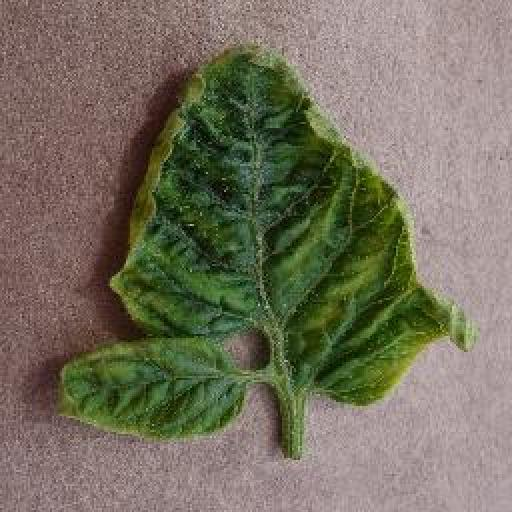disease_tomato: (111, 45, 474, 407), (54, 335, 242, 440)
